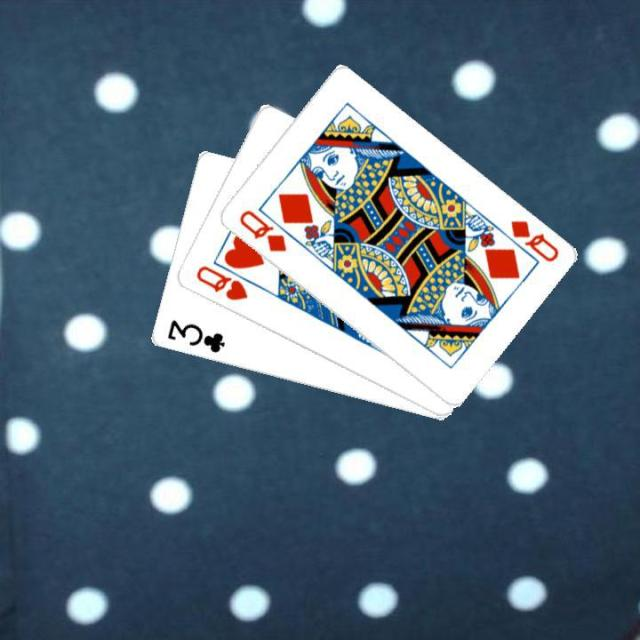3C: (162, 316, 226, 356)
QD: (506, 216, 561, 264), (235, 206, 288, 254)
QH: (191, 261, 249, 303)
